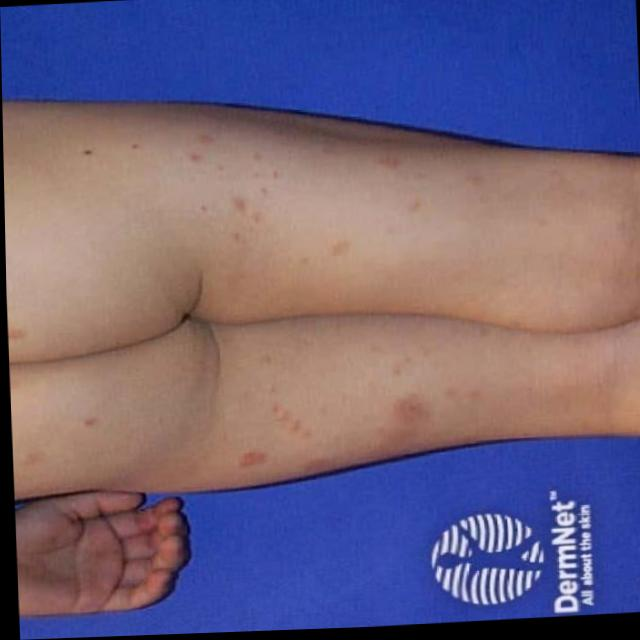Eczema: (169, 115, 471, 259), (235, 341, 476, 473)
